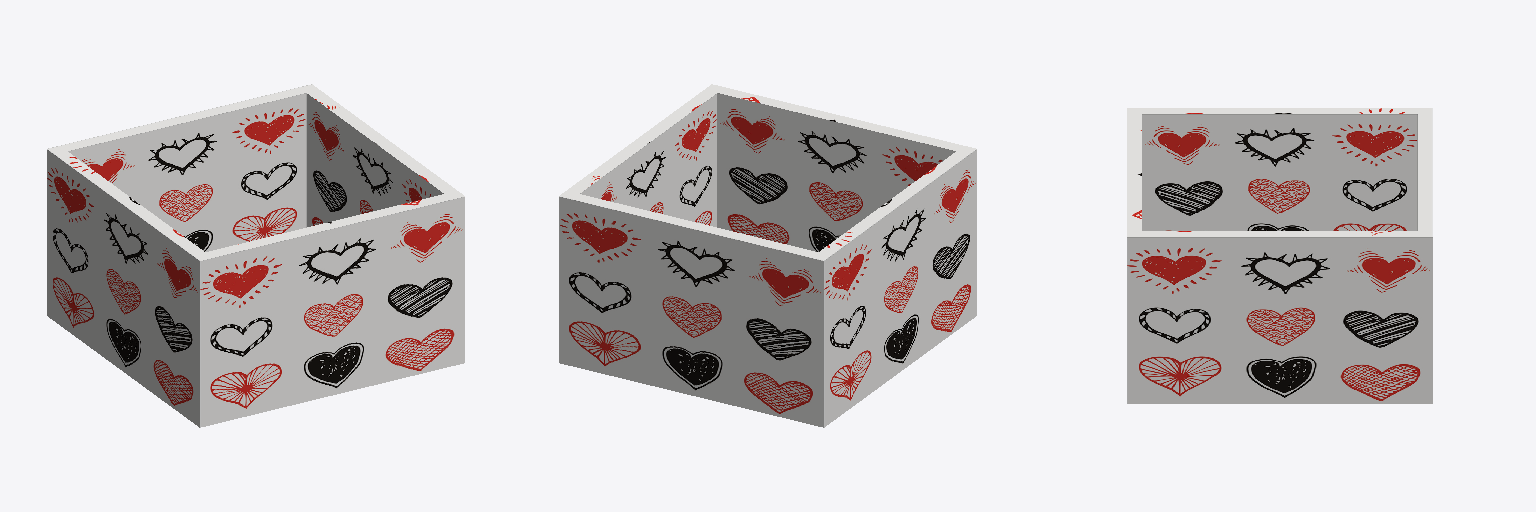
The picture shows the model from 3 angles: view 1: azimuth 30°, elevation 25°; view 2: azimuth 150°, elevation 25°; view 3: azimuth 270°, elevation 25°; orthographic projection.
Visible parts, largest first — view 1: Box001; view 2: Box001; view 3: Box001.
Part boxes in pixels (x1,y1,x2,y2): Box001: (47,84,464,427); Box001: (559,84,976,427); Box001: (1127,108,1432,403).
Bounding box in the file's own units: 200 × 120 × 200.
1 materials, 1 textured.